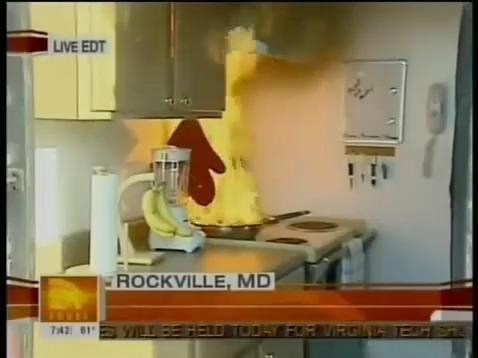fire: (187, 27, 272, 226)
